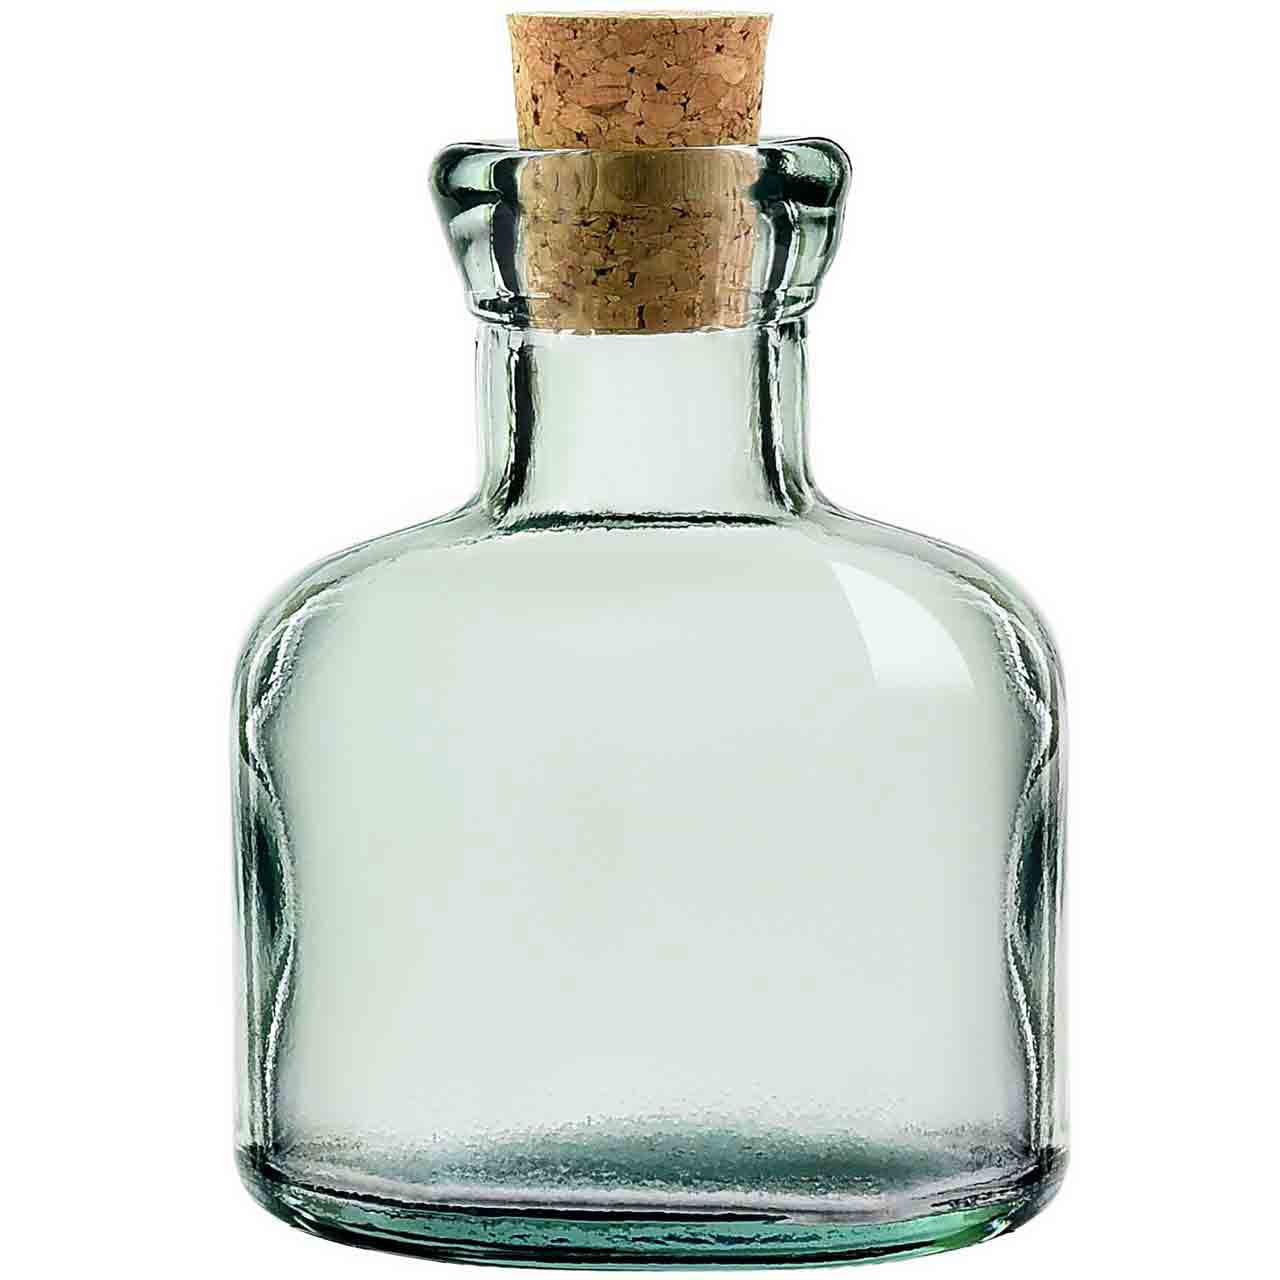glass_bottle: (218, 6, 1097, 1272)
